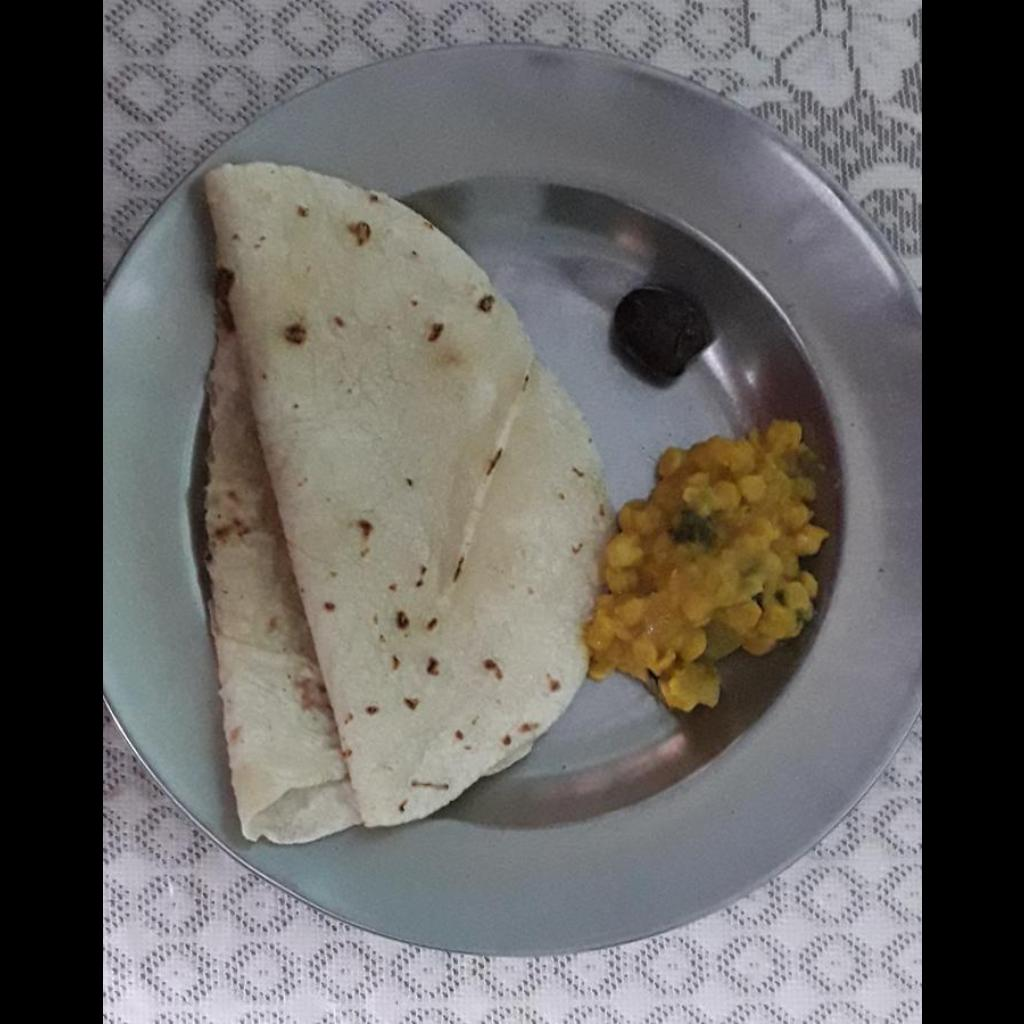daal: (605, 428, 818, 713)
dates: (612, 288, 710, 386)
ruti: (206, 162, 610, 853)
